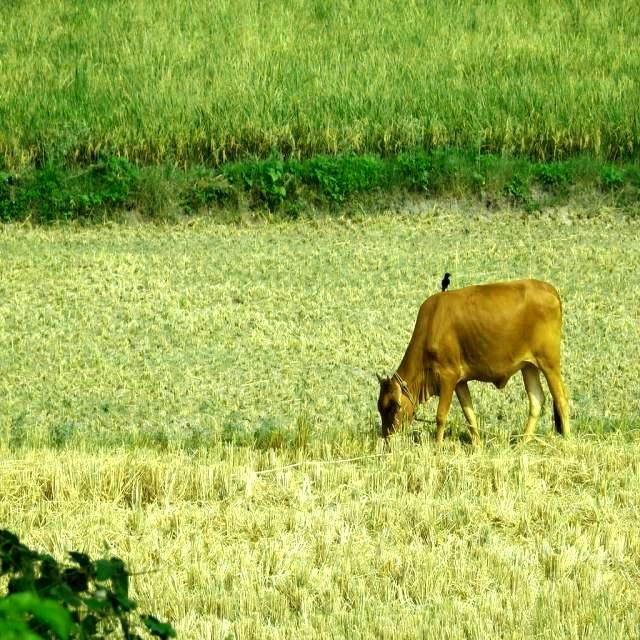COW: (378, 279, 570, 444)
